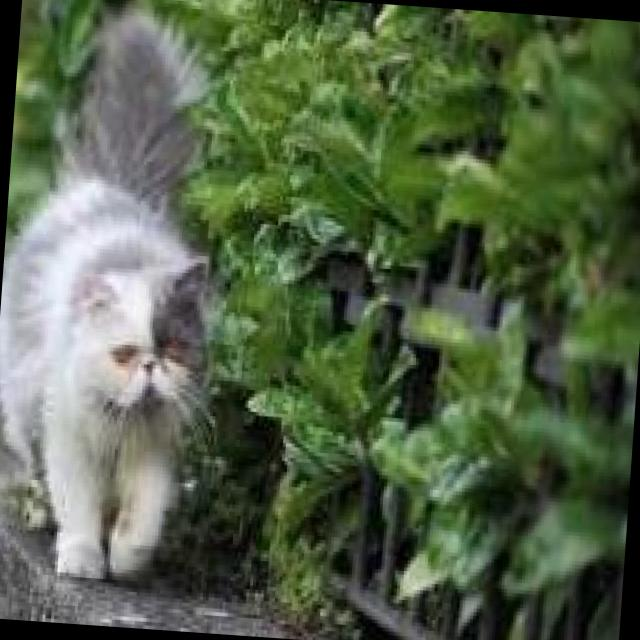Gato: (0, 0, 249, 589)
